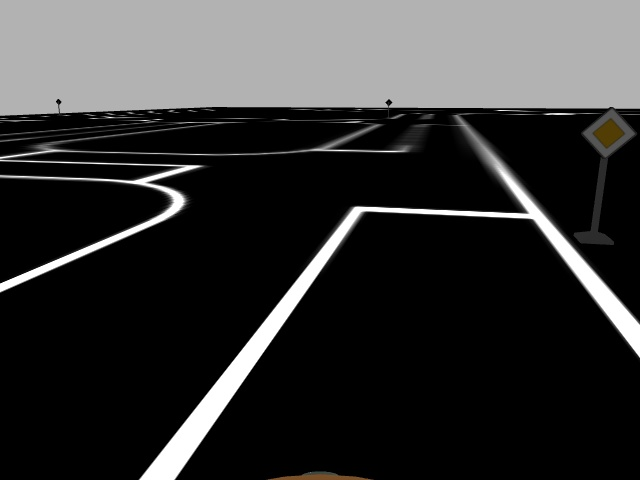priority: (579, 106, 636, 159)
